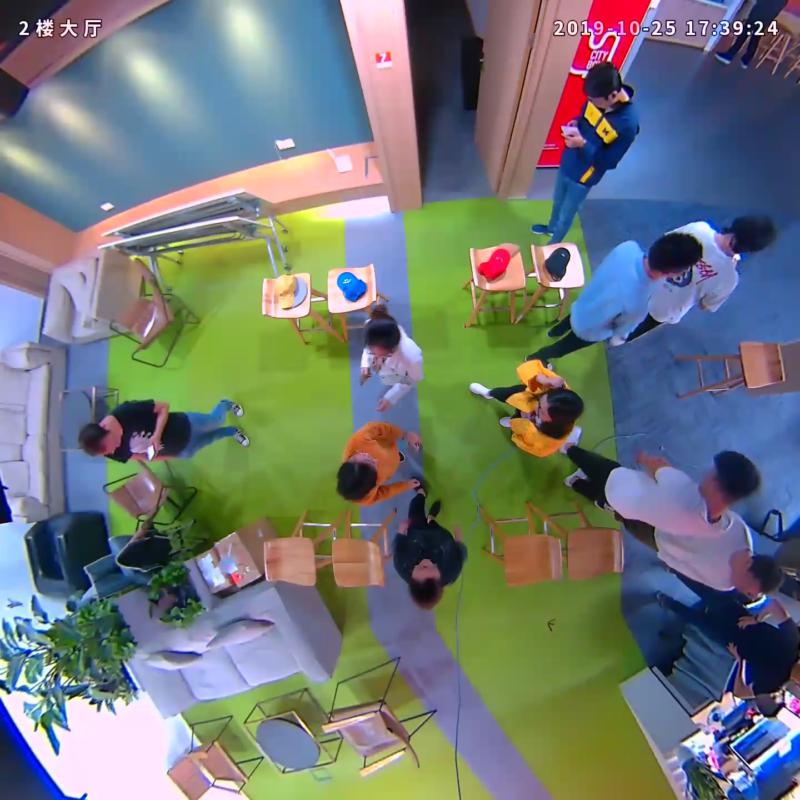head: (698, 449, 760, 506), (647, 233, 704, 277), (730, 553, 781, 598), (728, 214, 777, 256), (337, 453, 377, 501), (407, 558, 443, 609), (582, 61, 621, 106), (76, 421, 122, 459), (537, 386, 584, 423), (362, 316, 402, 359)
